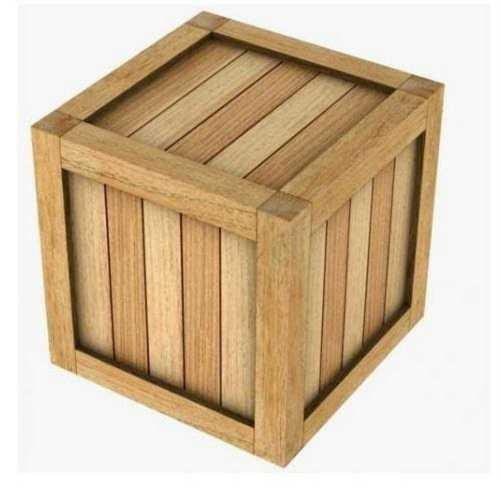cube: (36, 13, 441, 468)
